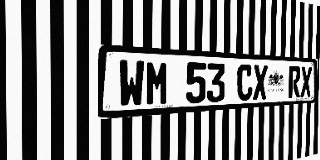3: (207, 63, 225, 103)
5: (186, 62, 206, 104)
C: (237, 64, 253, 101)
M: (145, 60, 169, 106)
R: (288, 66, 301, 98)
W: (118, 59, 145, 108)
X: (253, 65, 268, 100), (300, 66, 312, 97)
